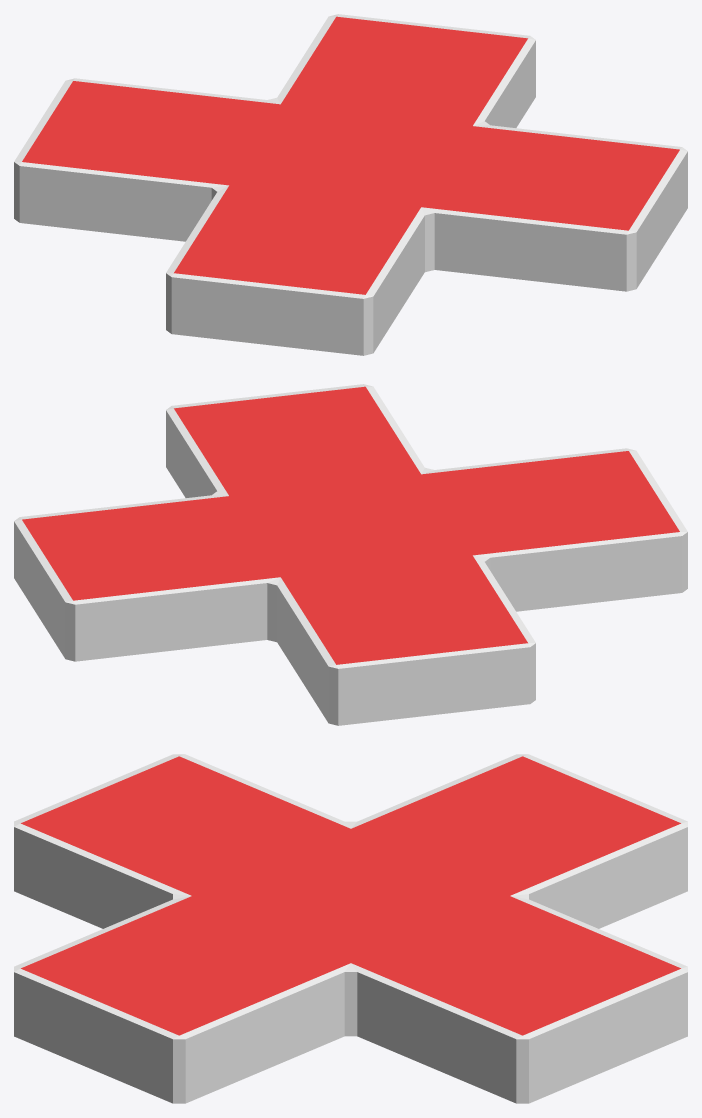
The model's file is x_mark.fbx.
The picture shows the model from 3 angles, top to bottom: view 1: azimuth 30°, elevation 25°; view 2: azimuth 150°, elevation 25°; view 3: azimuth 270°, elevation 25°; orthographic projection. The views are drawn at different scales.
Visible parts, largest first — view 1: X-mark; view 2: X-mark; view 3: X-mark.
Boxes of the visible parts, x1,y1,x2,y2 form: X-mark: [14, 14, 687, 355]; X-mark: [14, 384, 687, 725]; X-mark: [14, 754, 687, 1103].
Bounding box in the file's own units: 92.51 × 10 × 92.51.
